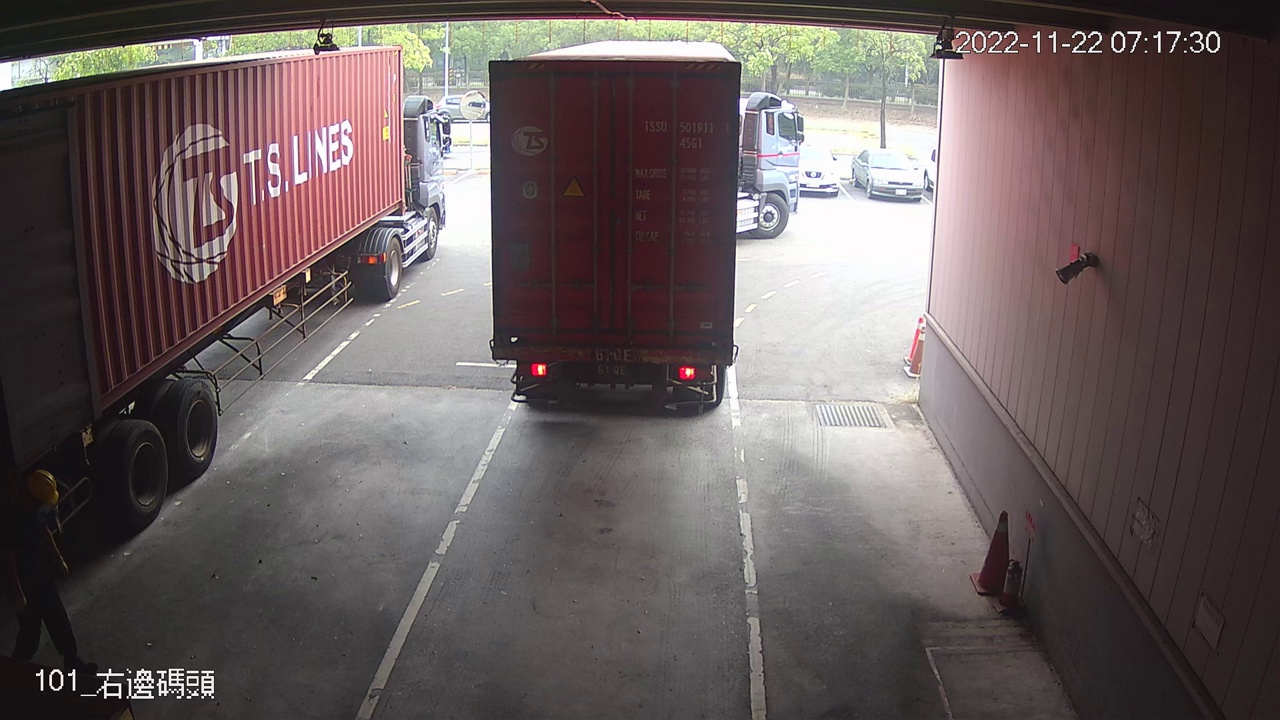container: (639, 115, 733, 154)
